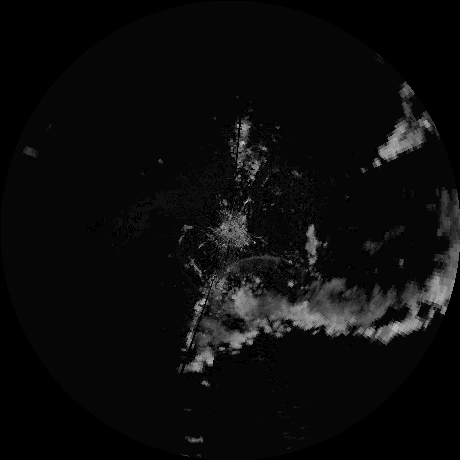frontgust: (228, 254, 306, 272)
